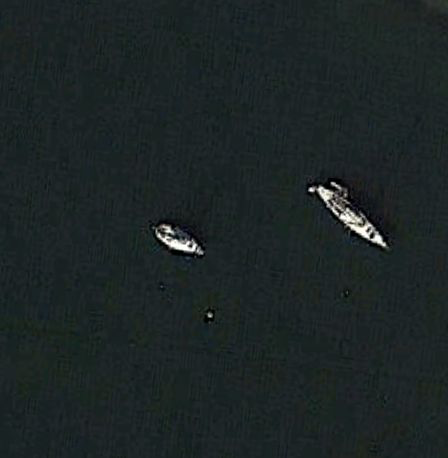boat: (311, 181, 388, 251), (152, 224, 207, 258)
